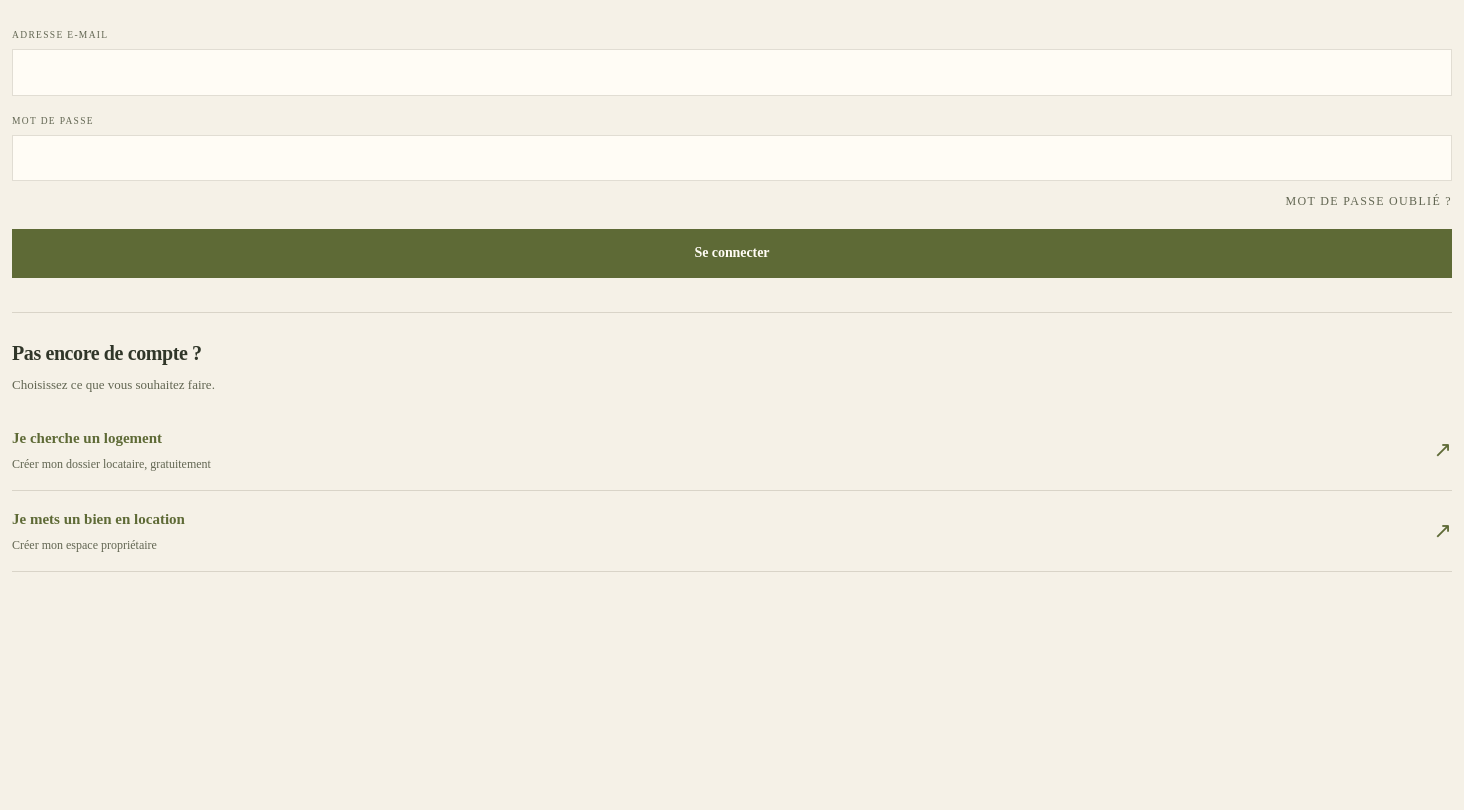
Test: Entrée commune du compte › affiche un échec de connexion et autorise une nouvelle tentative
Type "demo@exemple.test" into the field labelled "Adresse e-mail". click: (732, 72)
box: [12,49,1452,96]
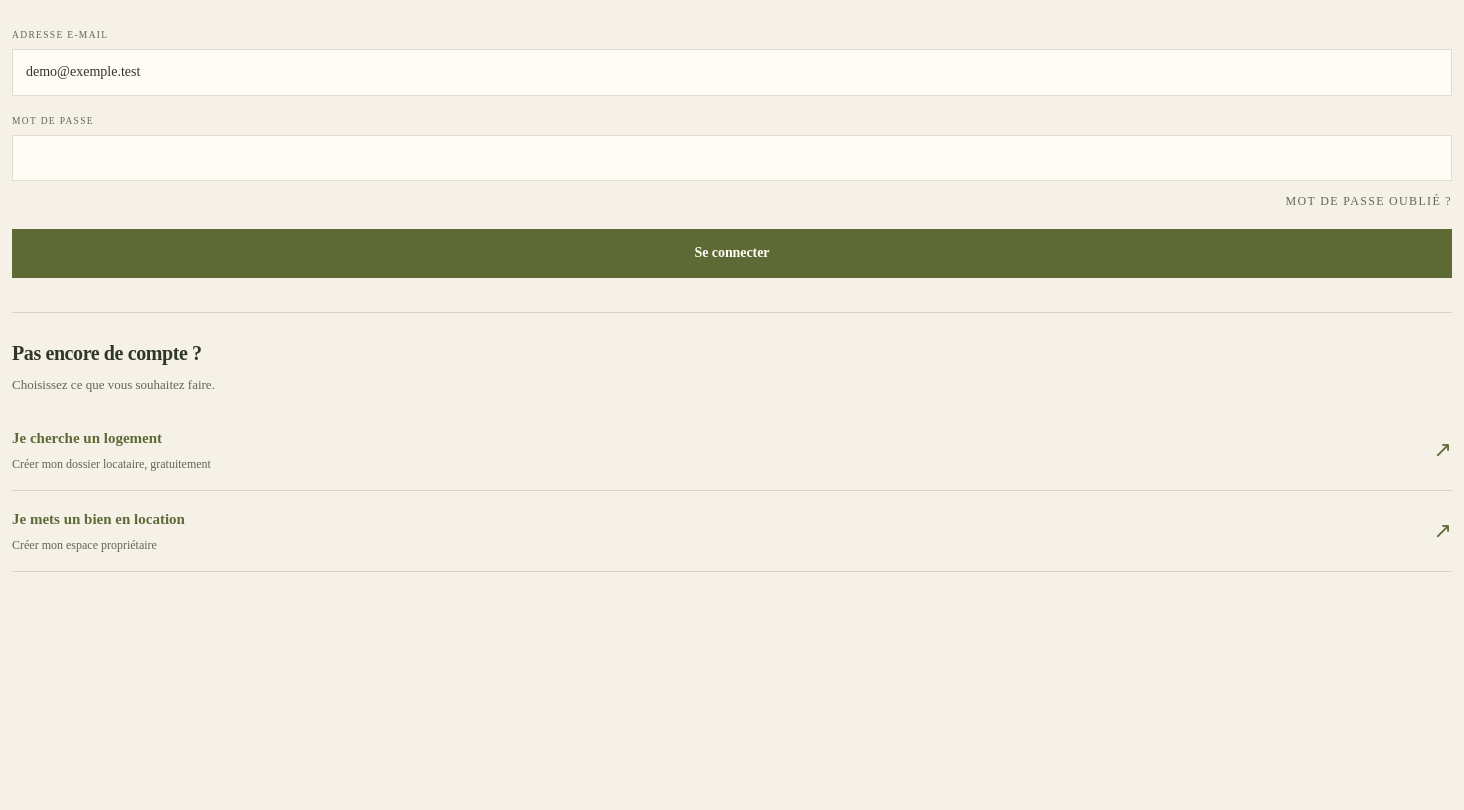
Type "incorrect" into the password field labelled "Mot de passe". click: (732, 158)
box: [12,135,1452,181]
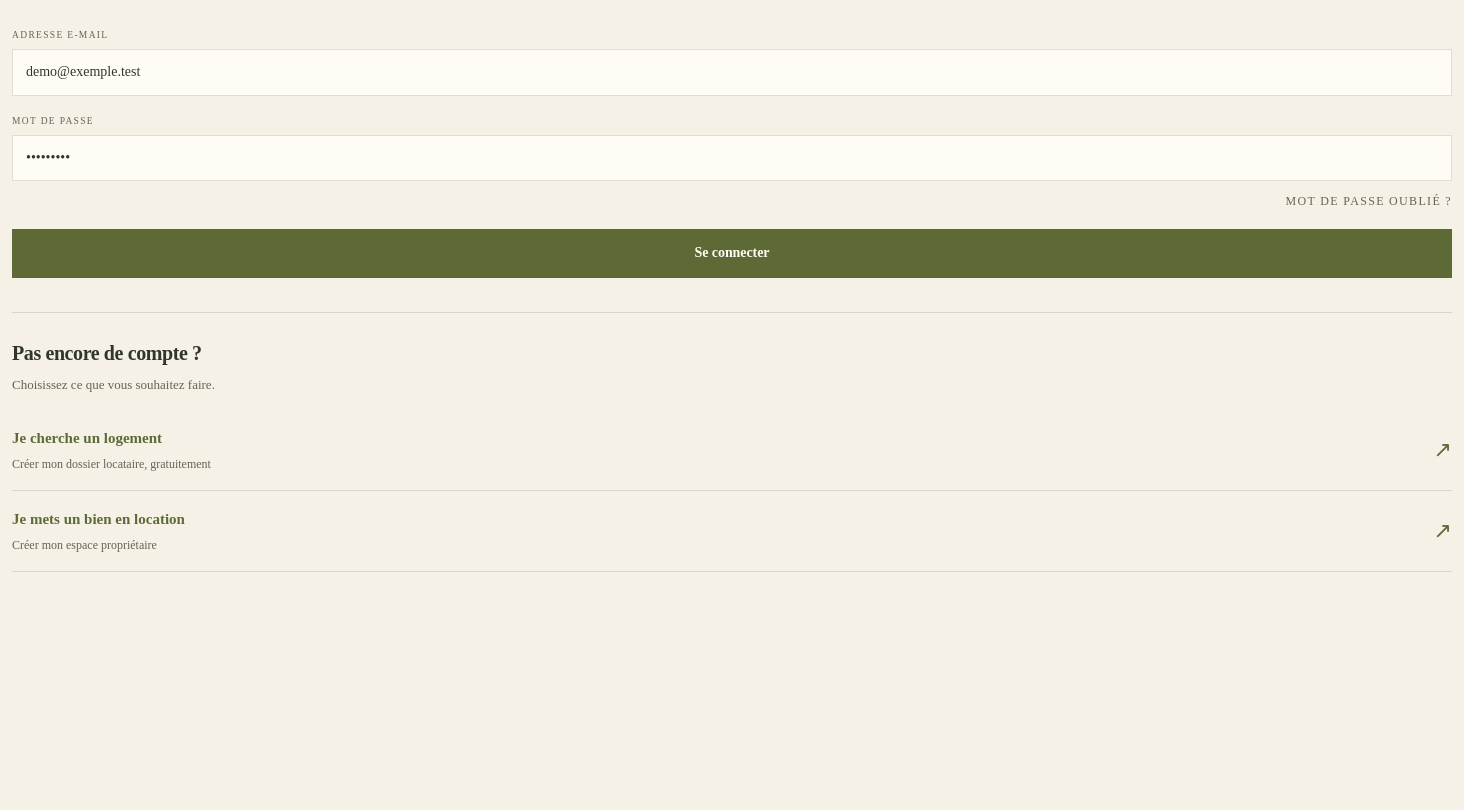
Click the button "Se connecter". click: (732, 254)
box: [12,229,1452,278]
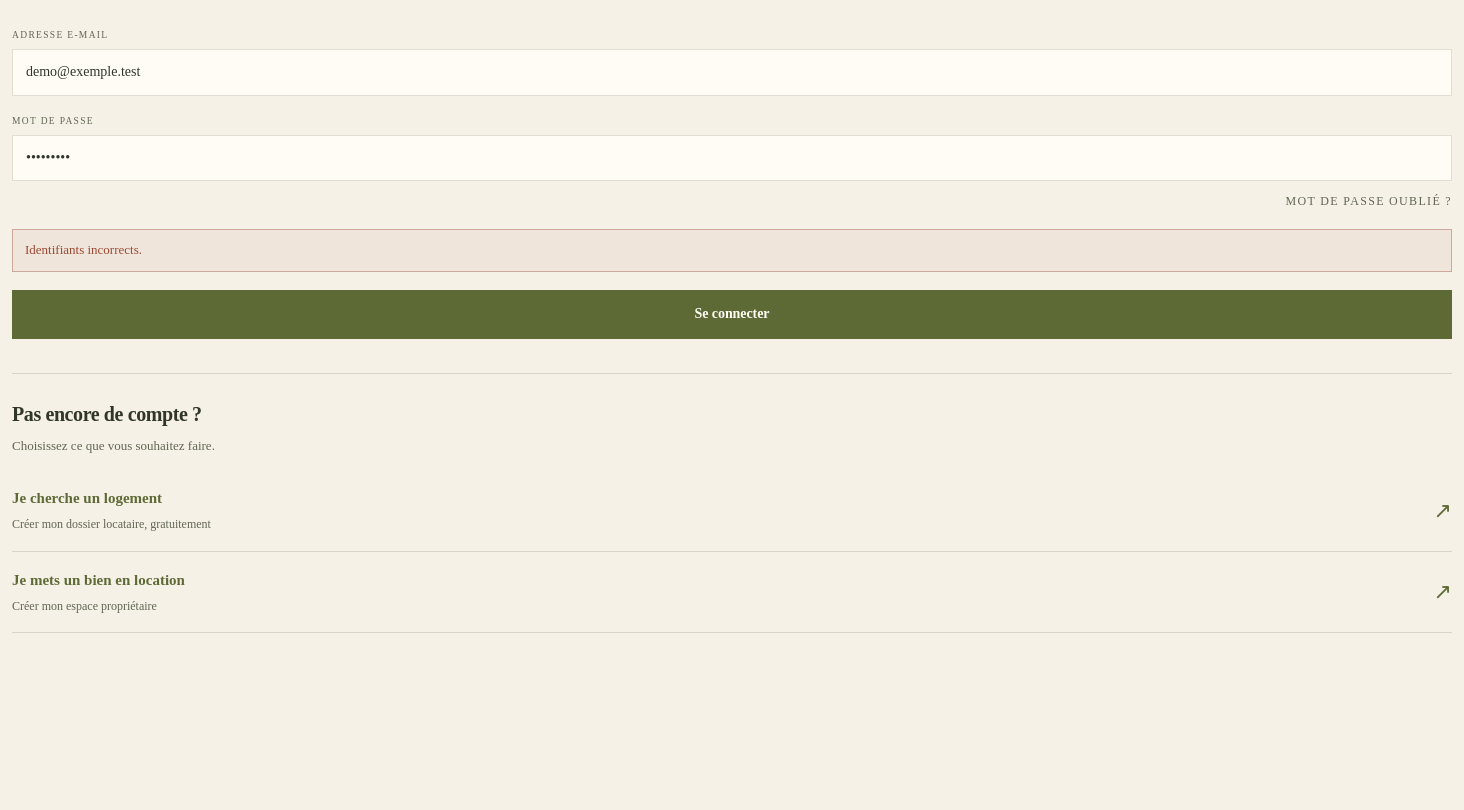
Expected: the button "Se connecter" is enabled, [12,290,1452,338]
Expected: the message reads "Identifiants incorrects.", [25,242,142,257]
